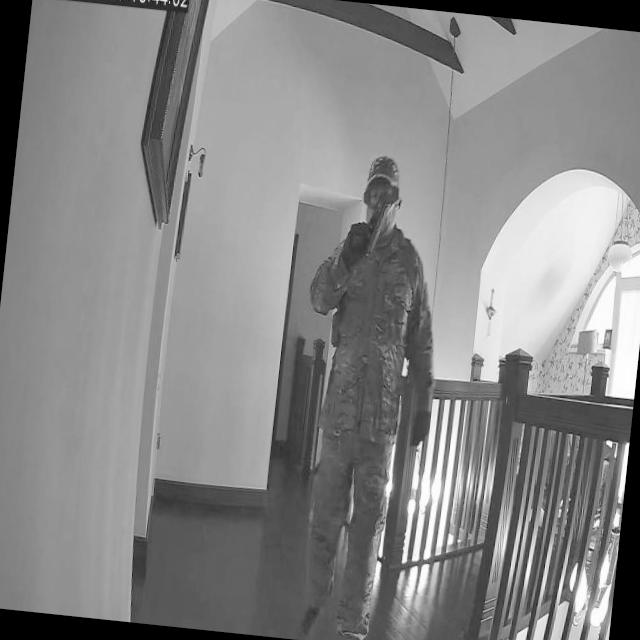gun: (355, 196, 390, 256)
person with a gun: (273, 146, 459, 640)
